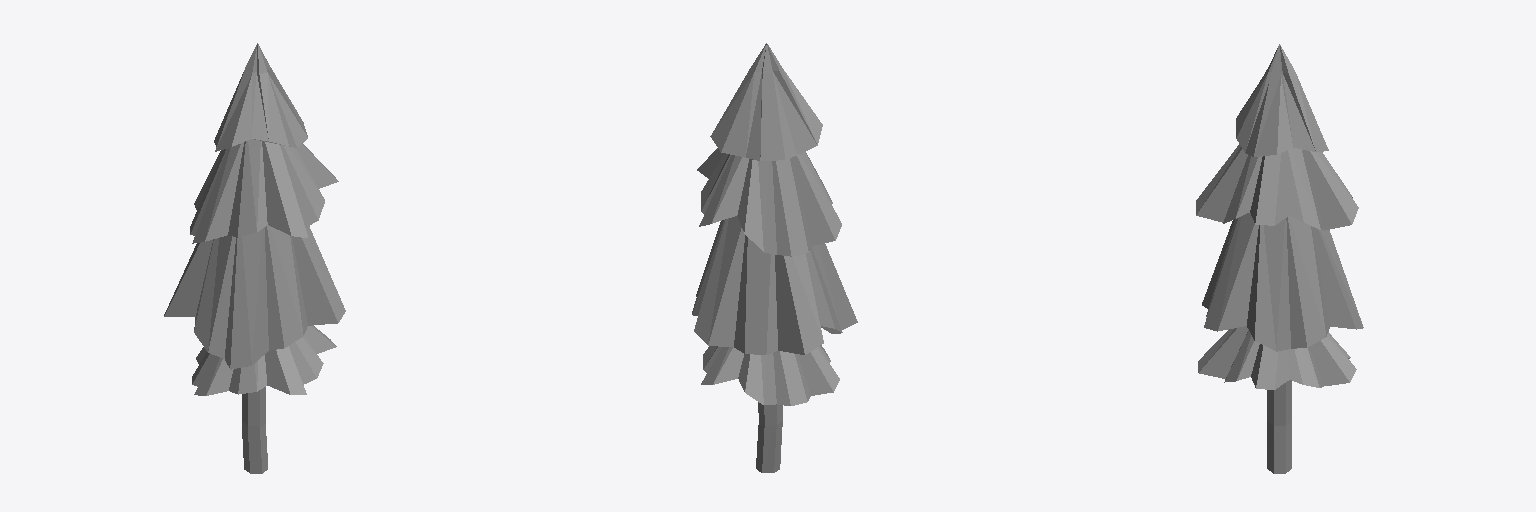
File: tree7.obj
3 renders of one model, left to right at view 1: azimuth 30°, elevation 25°; view 2: azimuth 150°, elevation 25°; view 3: azimuth 270°, elevation 25°, orthographic.
Bounding box in the file's own units: 1.89 × 5.21 × 1.86.